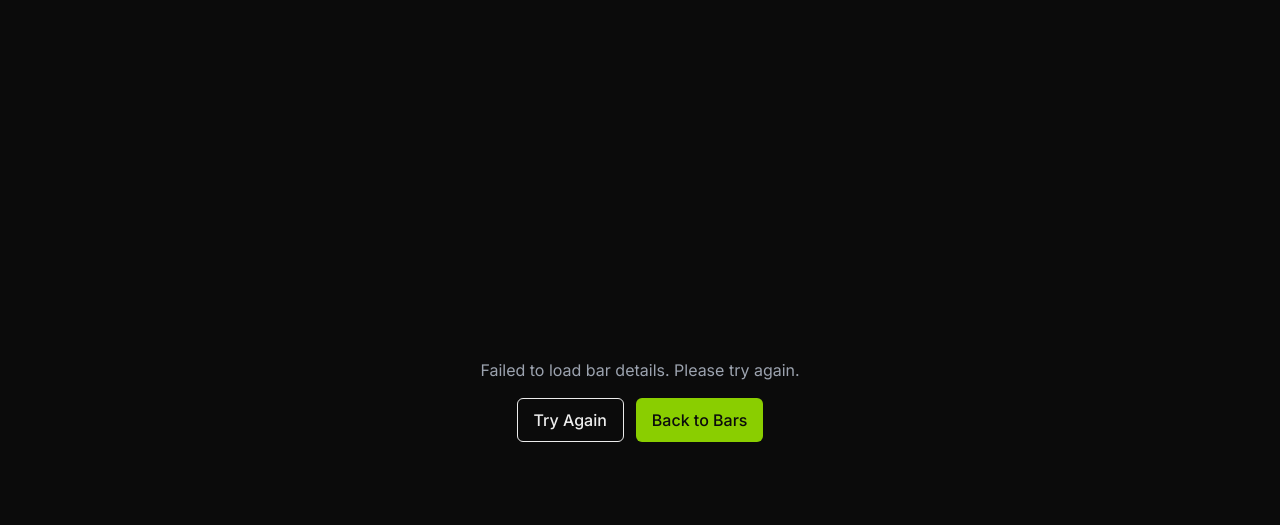
Scenario: venue detail retry behavior › retries bar detail loading after failure
Check: the text "Failed to load bar details. Please try again." is shown, box [480,358,800,382]
Click the button "Try Again": x=570, y=420 [516,398,624,442]
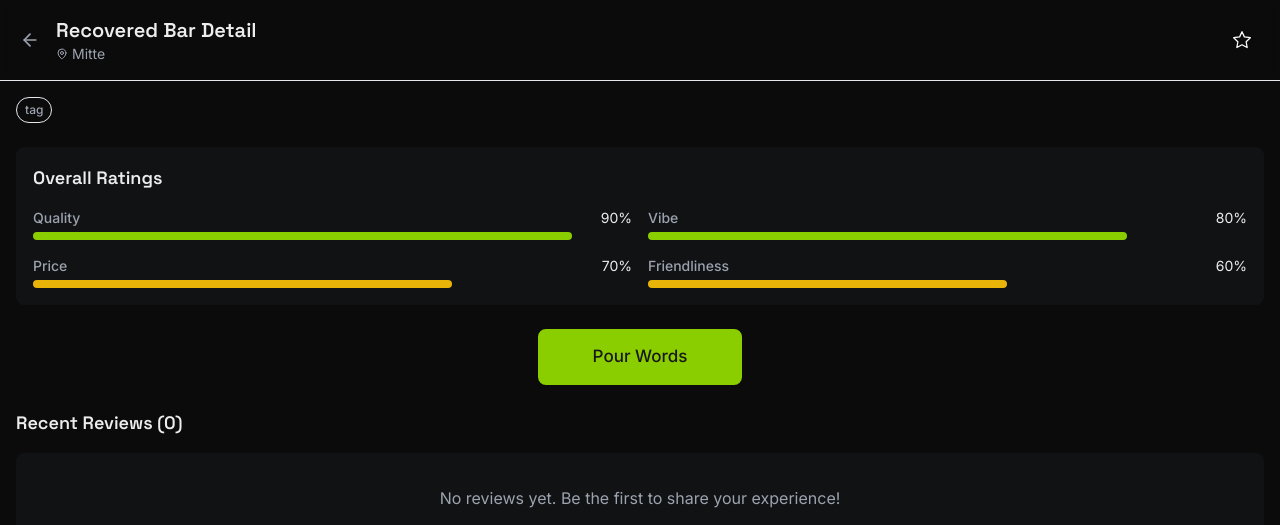
Check: the heading "Recovered Bar Detail" is shown, box [56,16,257,44]
